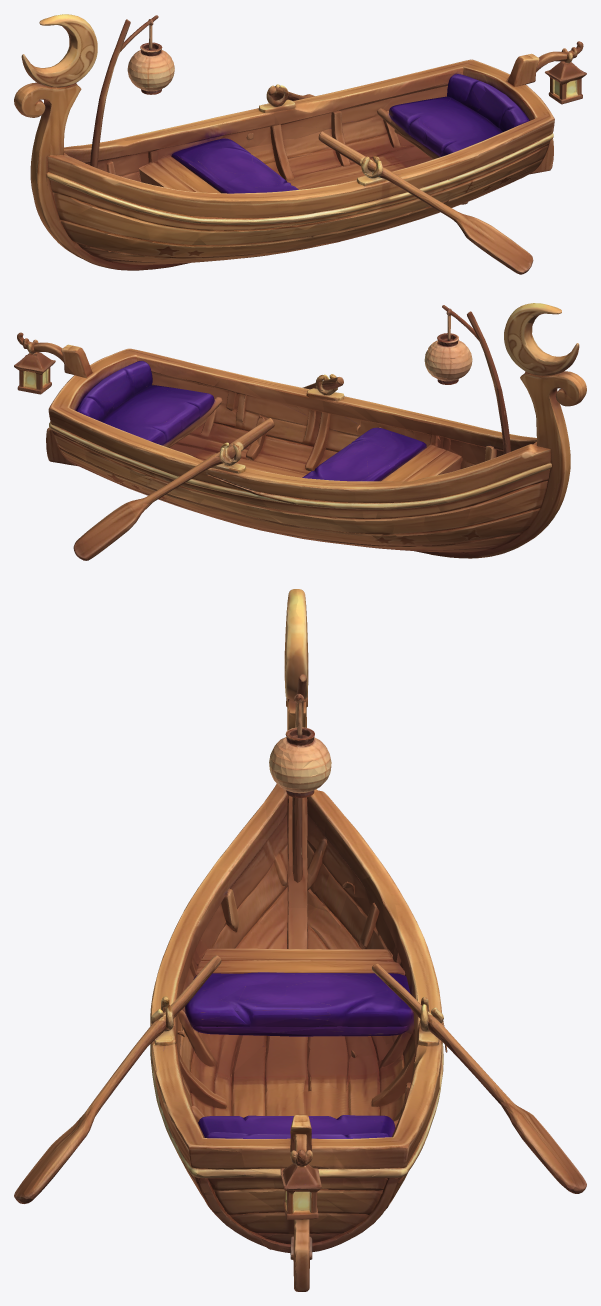
File: moon_boat.glb
3 renders of one model, top to bottom at view 1: azimuth 30°, elevation 25°; view 2: azimuth 150°, elevation 25°; view 3: azimuth 270°, elevation 25°, orthographic. The views are drawn at different scales.
Visible parts, largest first — view 1: Hull, Oar_R, Lantern_Bow, Lantern_Stern; view 2: Hull, Oar_L, Lantern_Bow, Oar_R, Lantern_Stern; view 3: Hull, Oar_R, Oar_L, Lantern_Bow, Lantern_Stern.
Boxes of the visible parts, <box> form: Hull: <box>14,14,582,270</box>; Oar_R: <box>318,131,533,274</box>; Lantern_Bow: <box>127,20,174,94</box>; Lantern_Stern: <box>561,41,586,84</box>; Hull: <box>17,303,586,558</box>; Oar_L: <box>73,432,249,560</box>; Lantern_Bow: <box>424,310,472,384</box>; Oar_R: <box>302,374,343,391</box>; Lantern_Stern: <box>14,332,38,379</box>; Hull: <box>150,589,447,1291</box>; Oar_R: <box>14,955,221,1203</box>; Oar_L: <box>396,986,586,1193</box>; Lantern_Bow: <box>269,695,331,797</box>; Lantern_Stern: <box>282,1149,321,1202</box>.
Bounding box in the file's own units: 3.23 × 1.52 × 2.09.
1 material, 1 textured.
